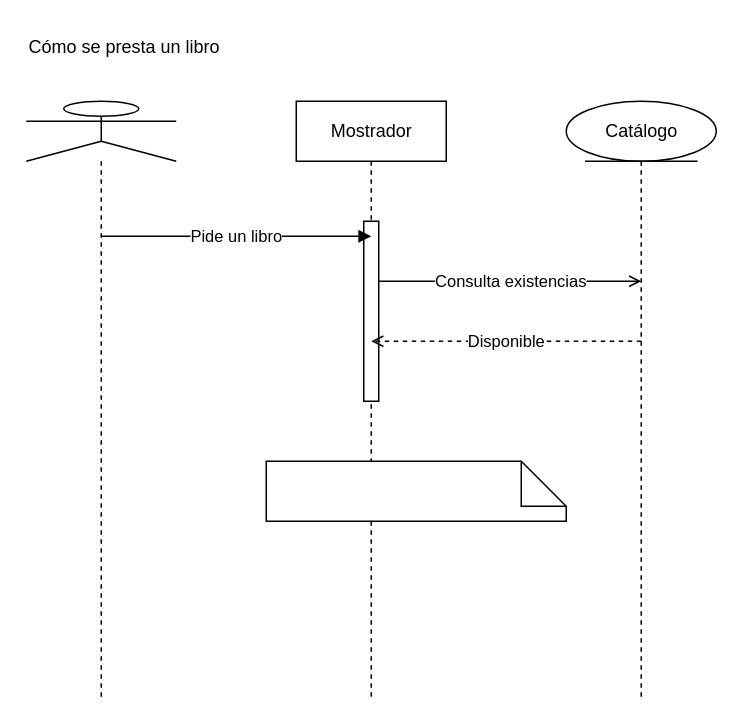
Image size: 743x728. Some labels were removed from this diagram. Here are the shapes that lost their labels. From the top down, the box of each, then its label:
(25, 100, 176, 701): Lector
(265, 460, 566, 521): El préstamo dura 14 días
